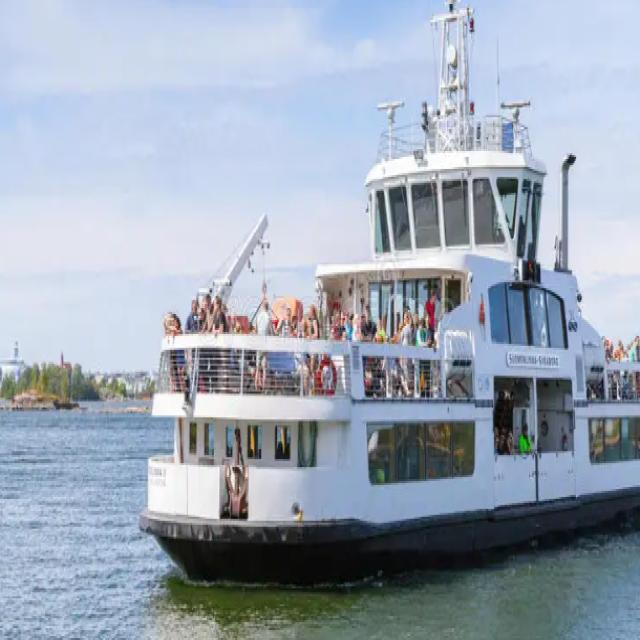passenger ship: (140, 13, 640, 552)
